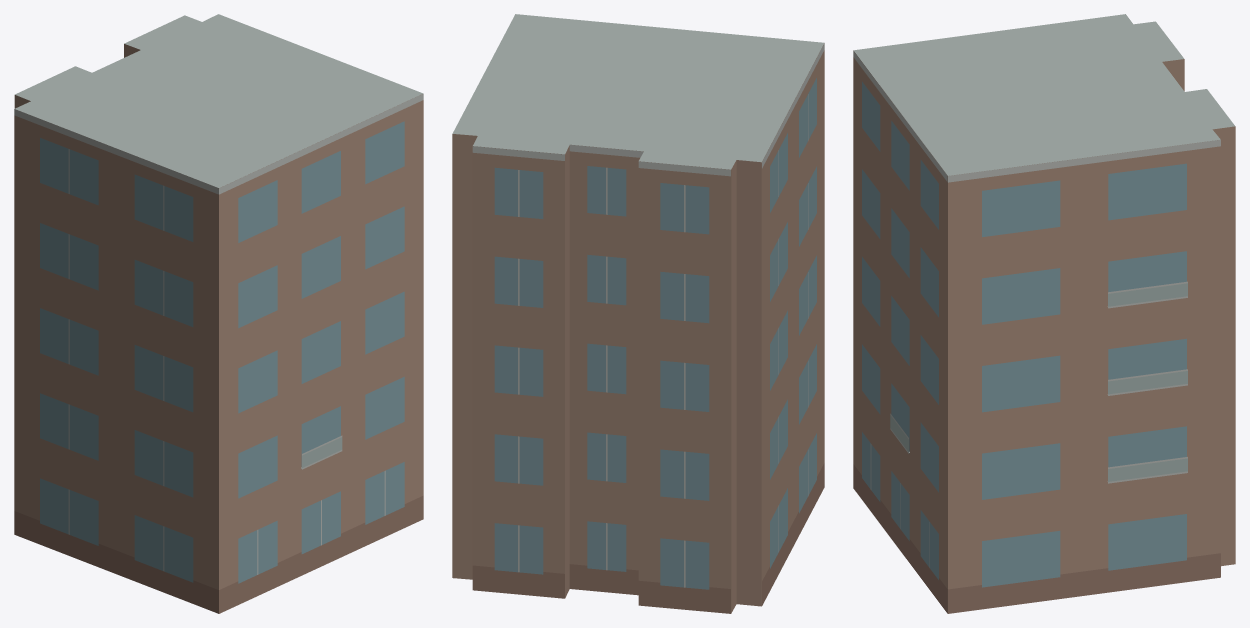
Rendered from survey-upis-32838864.glb.
3 renders of one model, left to right at view 1: azimuth 30°, elevation 25°; view 2: azimuth 150°, elevation 25°; view 3: azimuth 270°, elevation 25°, orthographic. The views are drawn at different scales.
Parts seen in each view (by area): view 1: survey-upis-32838864.tmp; view 2: survey-upis-32838864.tmp; view 3: survey-upis-32838864.tmp.
Part boxes in pixels (x1,y1,x2,y2): survey-upis-32838864.tmp: [14, 14, 423, 613]; survey-upis-32838864.tmp: [452, 14, 824, 613]; survey-upis-32838864.tmp: [853, 14, 1235, 613].
Size of the model in its own units: 12.74 by 16.05 by 12.7.
